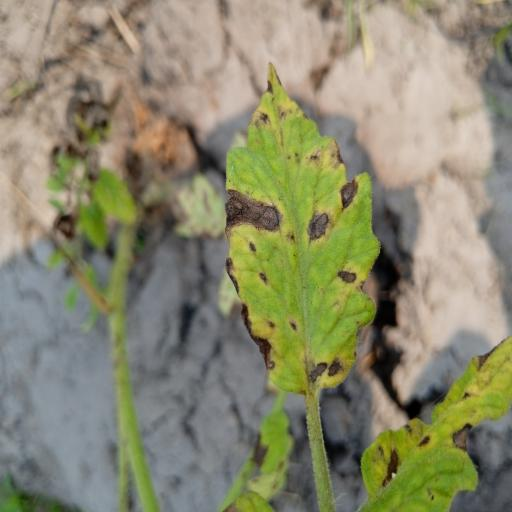Tomato_Brown_Spots: (220, 58, 380, 404), (357, 337, 511, 512)
